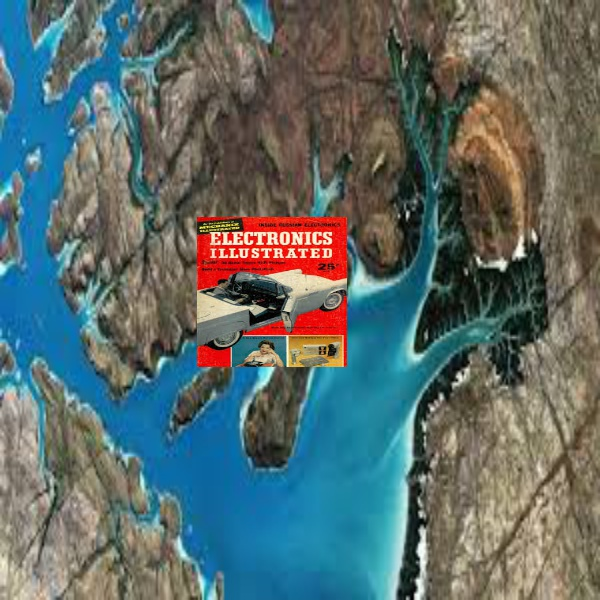time_cover: (185, 199, 356, 380)
